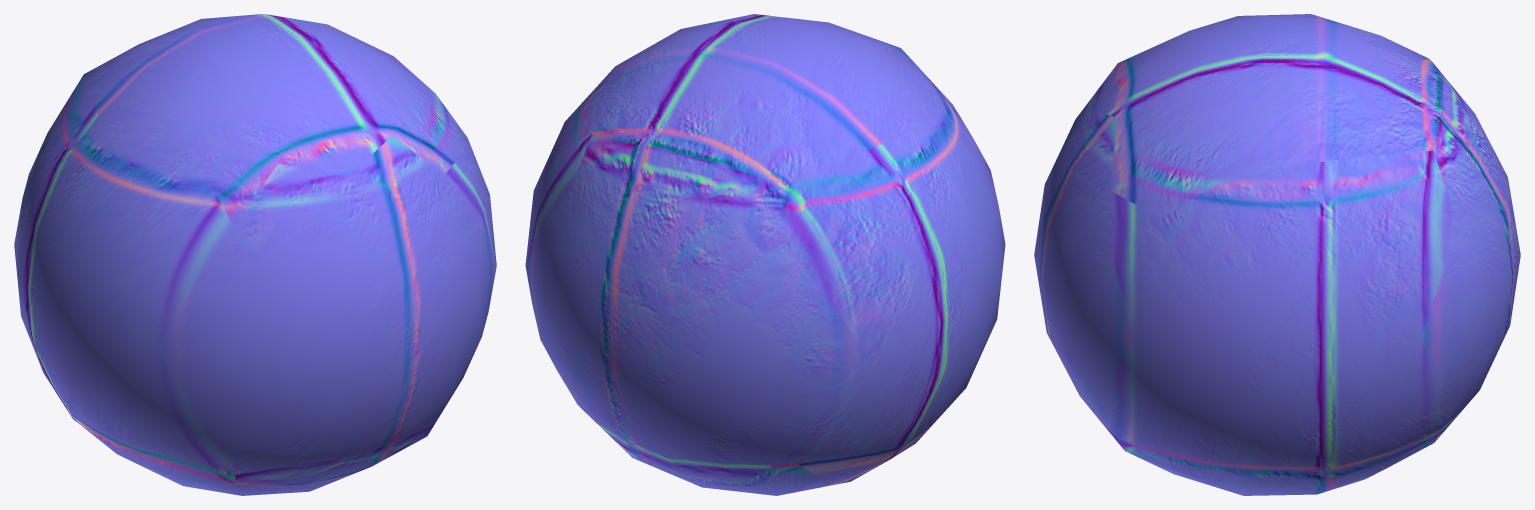
File: Ball1.fbx
3 renders of one model, left to right at view 1: azimuth 30°, elevation 25°; view 2: azimuth 150°, elevation 25°; view 3: azimuth 270°, elevation 25°, orthographic.
Parts seen in each view (by area): view 1: F4:GeoDome1_default; view 2: F4:GeoDome1_default; view 3: F4:GeoDome1_default.
Part boxes in pixels (x1=…): F4:GeoDome1_default: x1=14, y1=14, x2=496, y2=495; F4:GeoDome1_default: x1=525, y1=14, x2=1005, y2=495; F4:GeoDome1_default: x1=1034, y1=14, x2=1520, y2=495.
Size of the model in its own units: 160 by 160 by 160.
